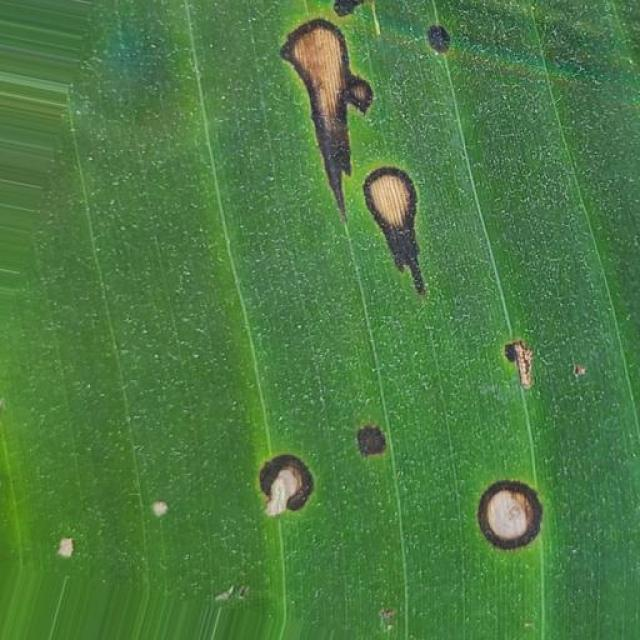Early_rust: (263, 0, 459, 278), (470, 324, 583, 577), (229, 388, 385, 534)
